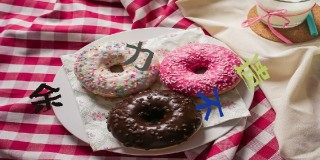不: (194, 87, 224, 121)
余: (29, 82, 63, 115)
力: (124, 40, 154, 72)
遗: (234, 52, 271, 94)
